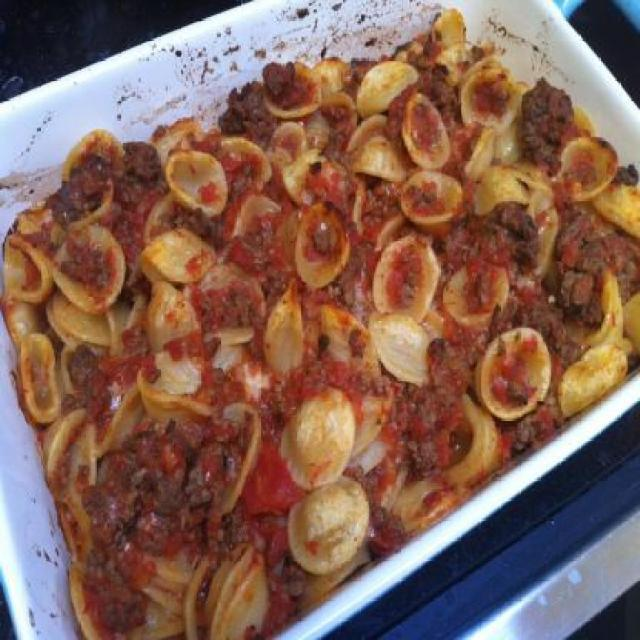Pasta al ragu: (12, 88, 590, 424)
